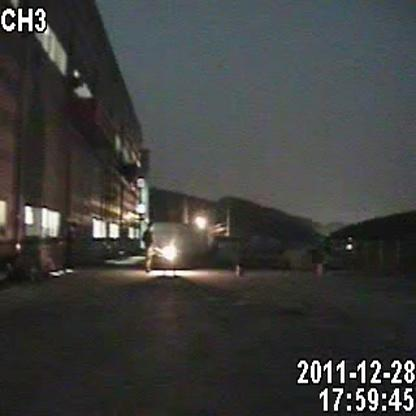Fire: (163, 242, 180, 263)
